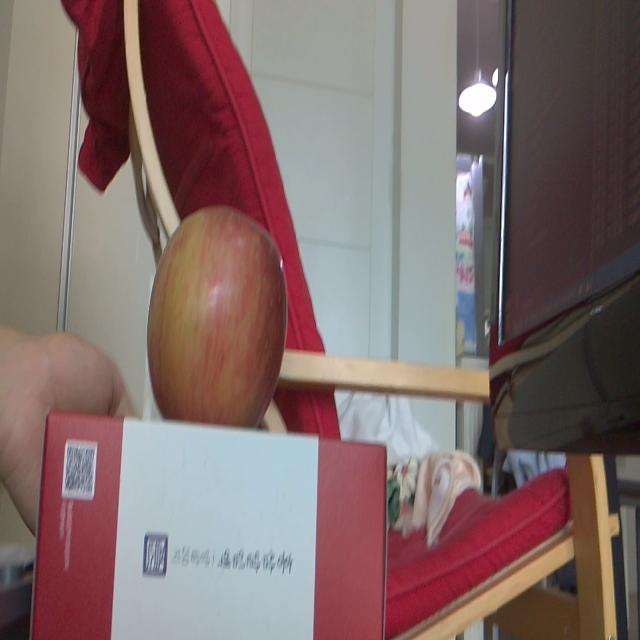apple: (146, 200, 286, 431)
